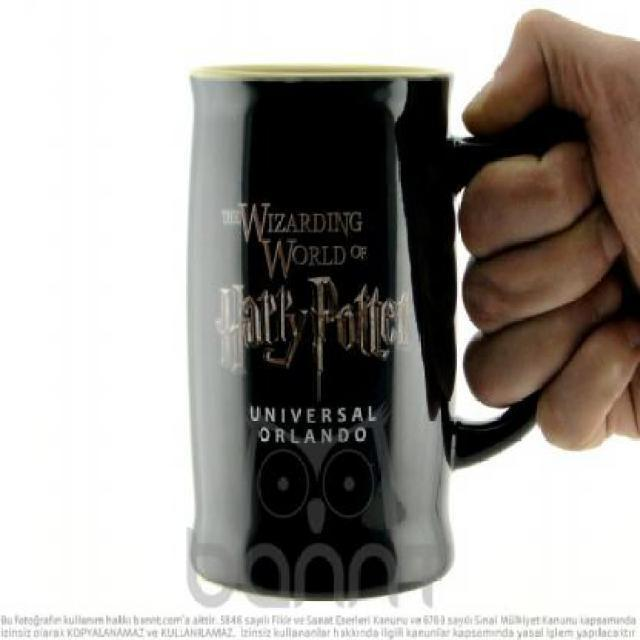taza: (176, 49, 578, 598)
